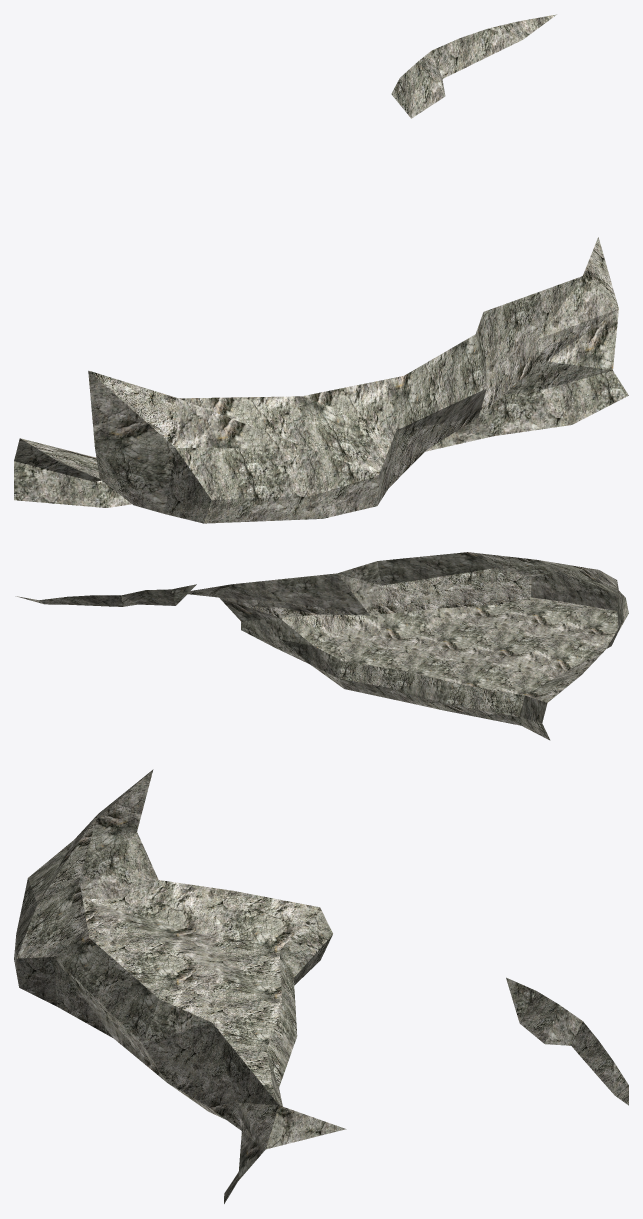
Rendered from cunteground30a.obj.
The picture shows the model from 3 angles, top to bottom: view 1: azimuth 30°, elevation 25°; view 2: azimuth 150°, elevation 25°; view 3: azimuth 270°, elevation 25°; orthographic projection. The views are drawn at different scales.
Parts seen in each view (by area): view 1: cuntEground30A; view 2: cuntEground30A; view 3: cuntEground30A.
Part boxes in pixels (x1,y1,x2,y2): cuntEground30A: [14, 14, 628, 523]; cuntEground30A: [15, 552, 628, 740]; cuntEground30A: [14, 769, 628, 1203].
Bounding box in the file's own units: 157 × 49.18 × 125.
1 material, 1 textured.
